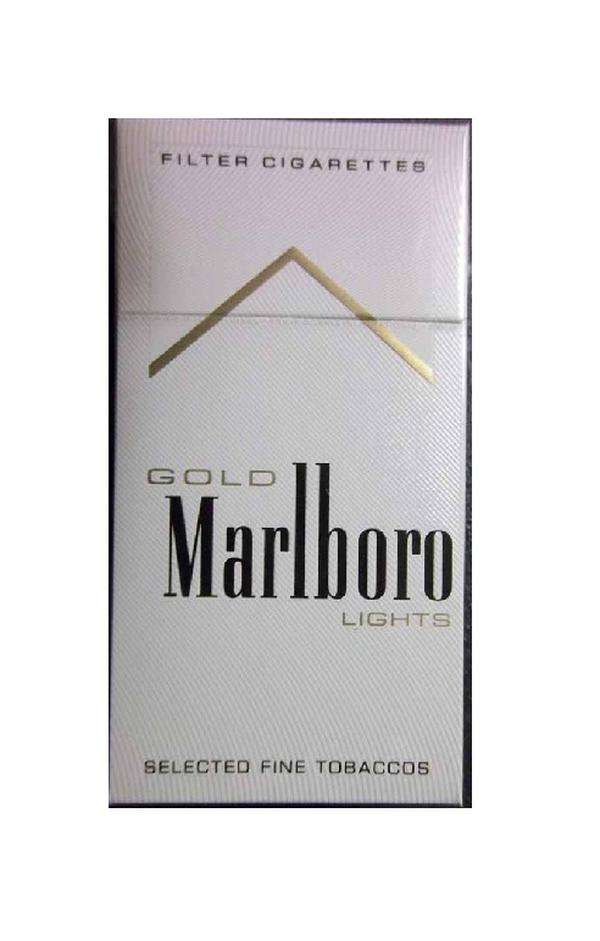marlboro_gold: (121, 124, 464, 806)
